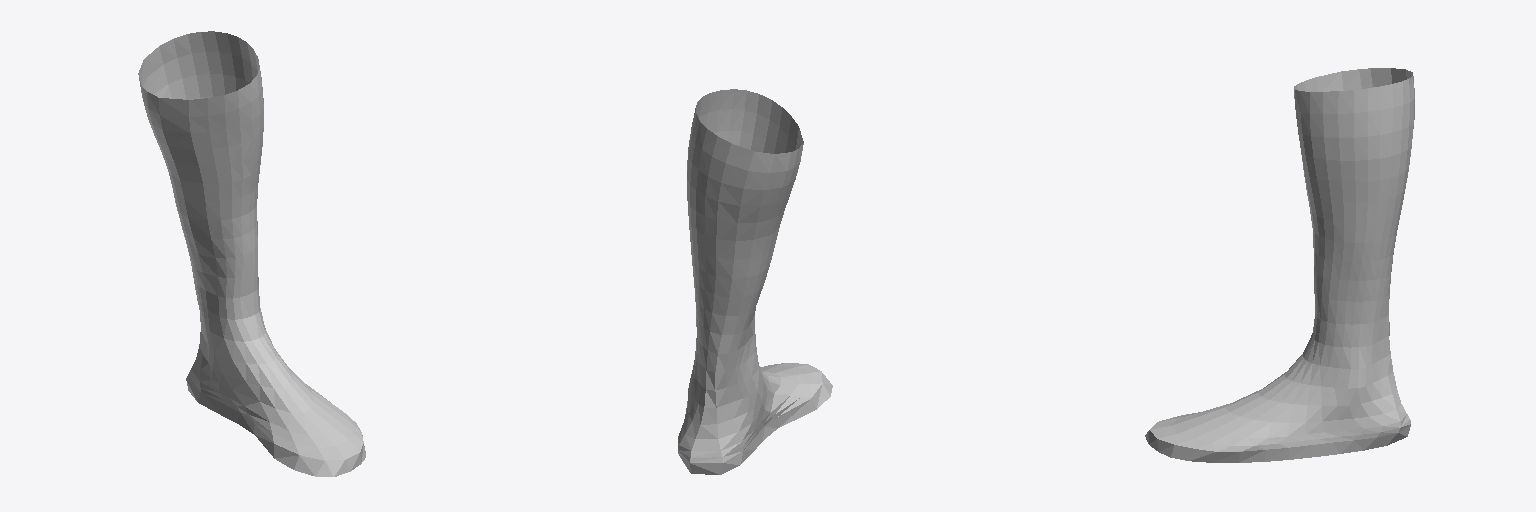
Rendered from LeftKnee.obj.
3 renders of one model, left to right at view 1: azimuth 30°, elevation 25°; view 2: azimuth 150°, elevation 25°; view 3: azimuth 270°, elevation 25°, orthographic.
Parts seen in each view (by area): view 1: polySurface44 polySurface40 polySurface38 polySurface8 polySurfa; view 2: polySurface44 polySurface40 polySurface38 polySurface8 polySurfa; view 3: polySurface44 polySurface40 polySurface38 polySurface8 polySurfa.
Part boxes in pixels (x1,y1,x2,y2): polySurface44 polySurface40 polySurface38 polySurface8 polySurfa: (138,31,365,476); polySurface44 polySurface40 polySurface38 polySurface8 polySurfa: (678,89,832,474); polySurface44 polySurface40 polySurface38 polySurface8 polySurfa: (1145,68,1414,462).
Size of the model in its own units: 6.53 by 16.17 by 10.97.